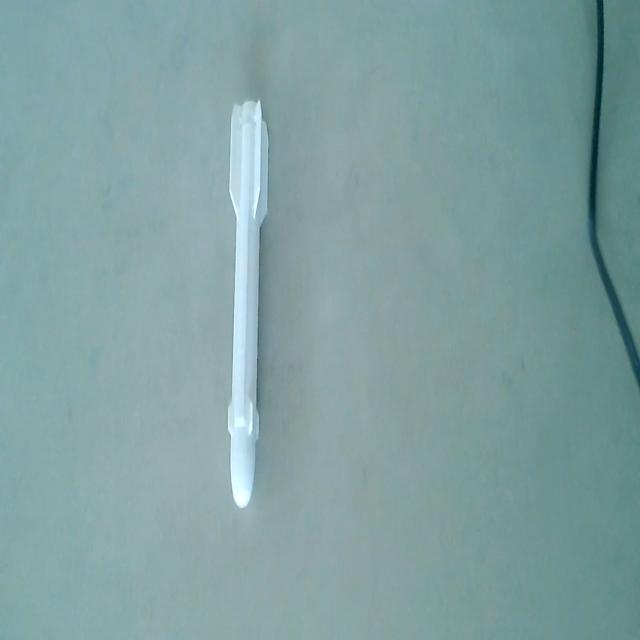Rocket: (223, 93, 270, 512)
